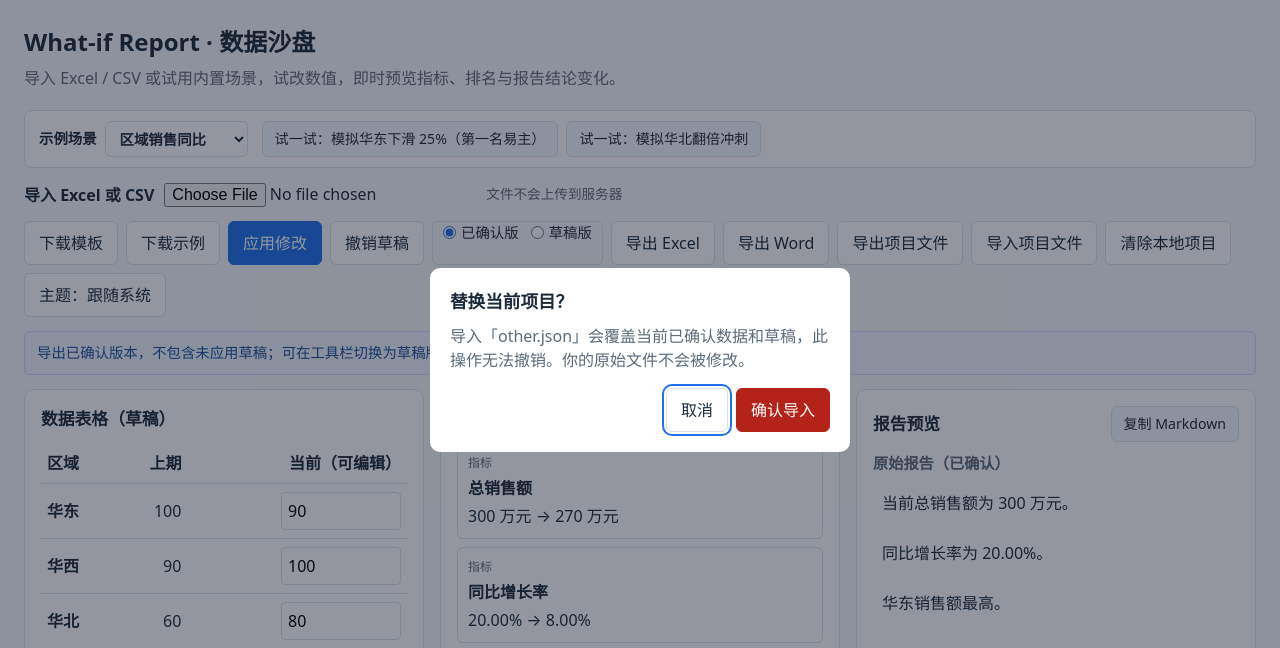
Scenario: import overwrite confirmation › asks before replacing edited work, and cancelling keeps the draft
Earlier steps of the test are not shown.
Expected: the dialog "替换当前项目？" shows "other.json", [450,325,604,347]
What coordinates should you click on to do the following:
click the button "取消"
I would click on:
 (697, 410)
Its box is [666,388,728,432].
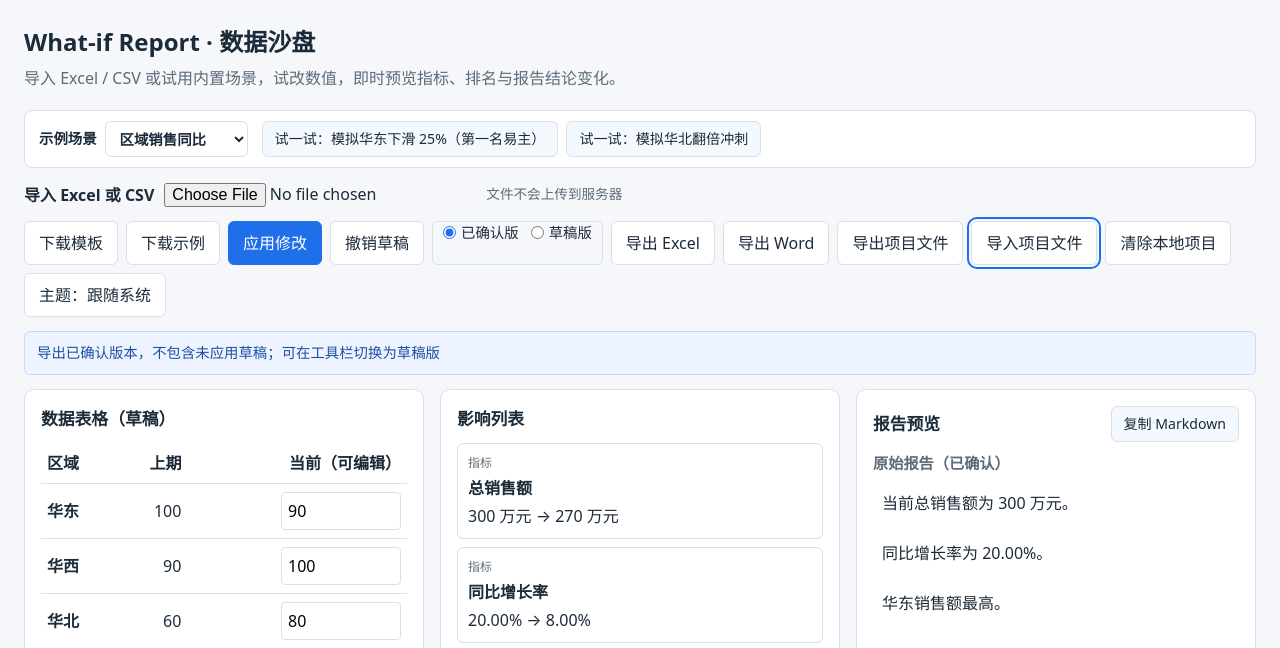
Expected: the number field named "华东当前销售额" holds "90", [281,492,401,530]
Result: the dialog is gone
